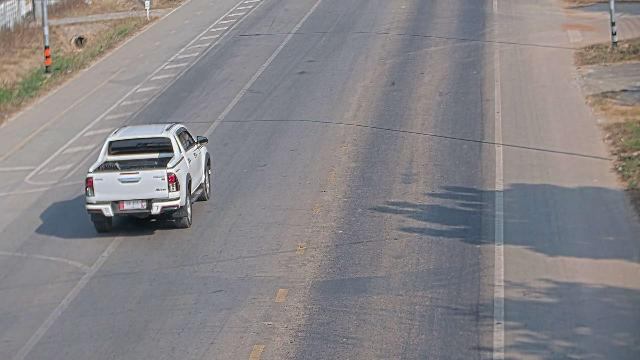pickup-truck: (84, 121, 212, 233)
